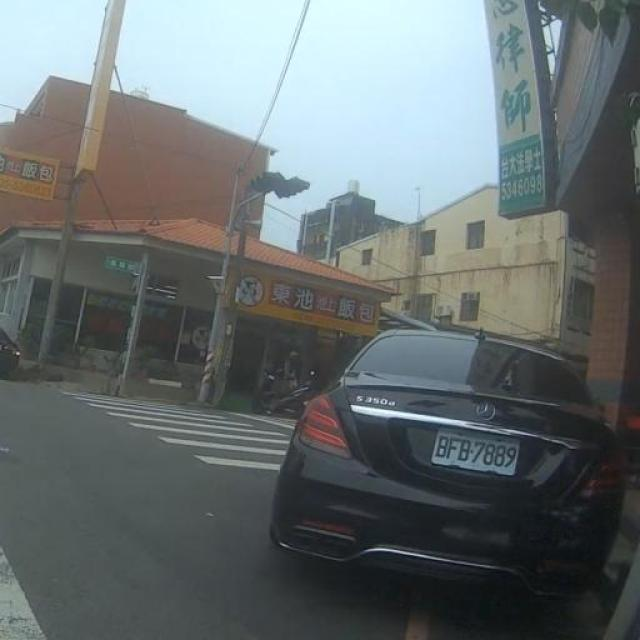illegalparking: (260, 289, 640, 640)
